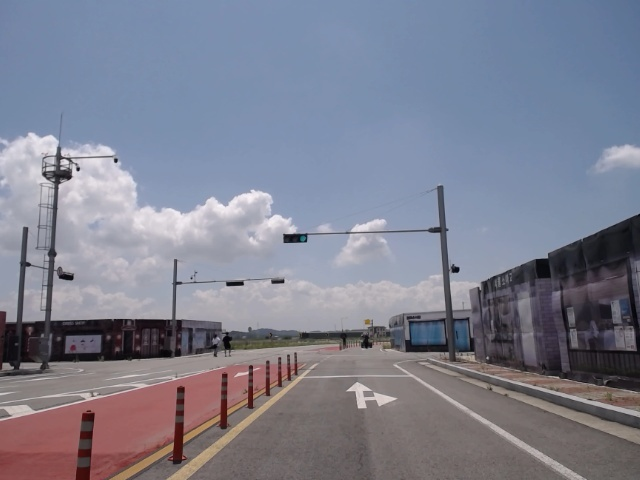green_3: (284, 234, 308, 243)
